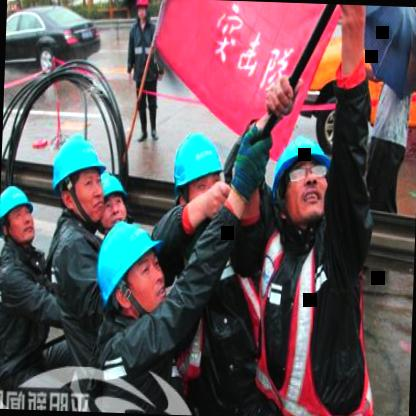helmet: (268, 122, 336, 240), (98, 221, 173, 321), (164, 124, 229, 228), (44, 129, 110, 225), (0, 179, 38, 247), (93, 166, 130, 228), (133, 0, 150, 22)
